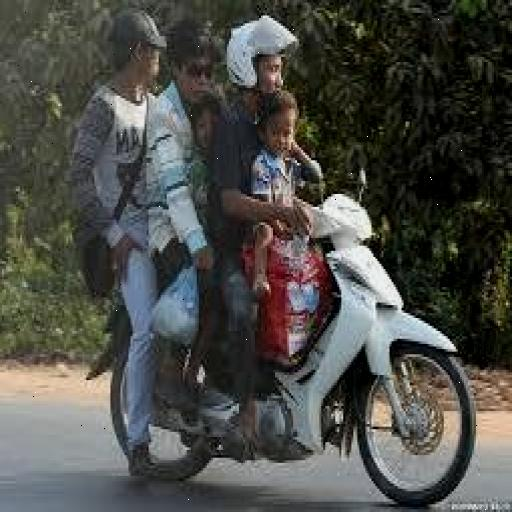helmet: (214, 12, 305, 106)
triple riding: (34, 2, 512, 510)
